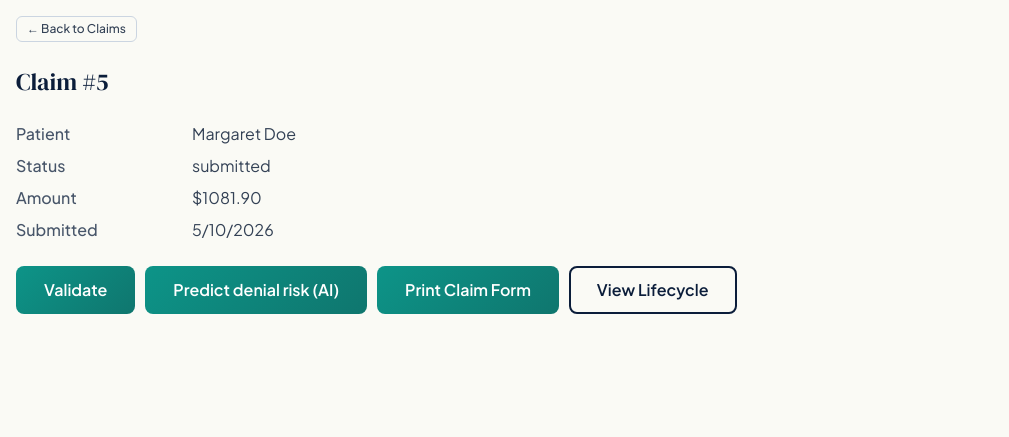
Test case: ClaimDetail — Validate (scrub) › shows passed-with-warnings count when only warnings present
Expected: the heading "Claim #5" is shown, [16, 65, 108, 98]
Click the button "Validate".
click(76, 290)  # box [16, 266, 135, 314]
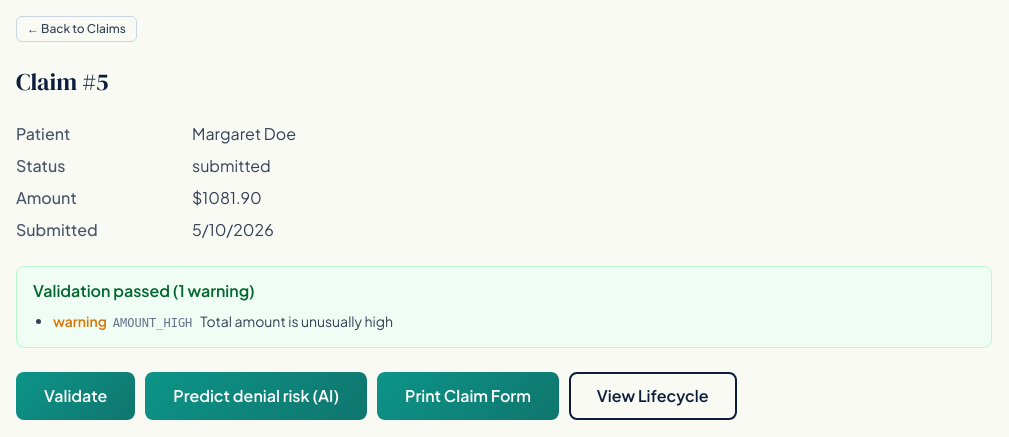
Now the text "Validation passed (1 warning)" is shown, box [33, 280, 255, 301]
